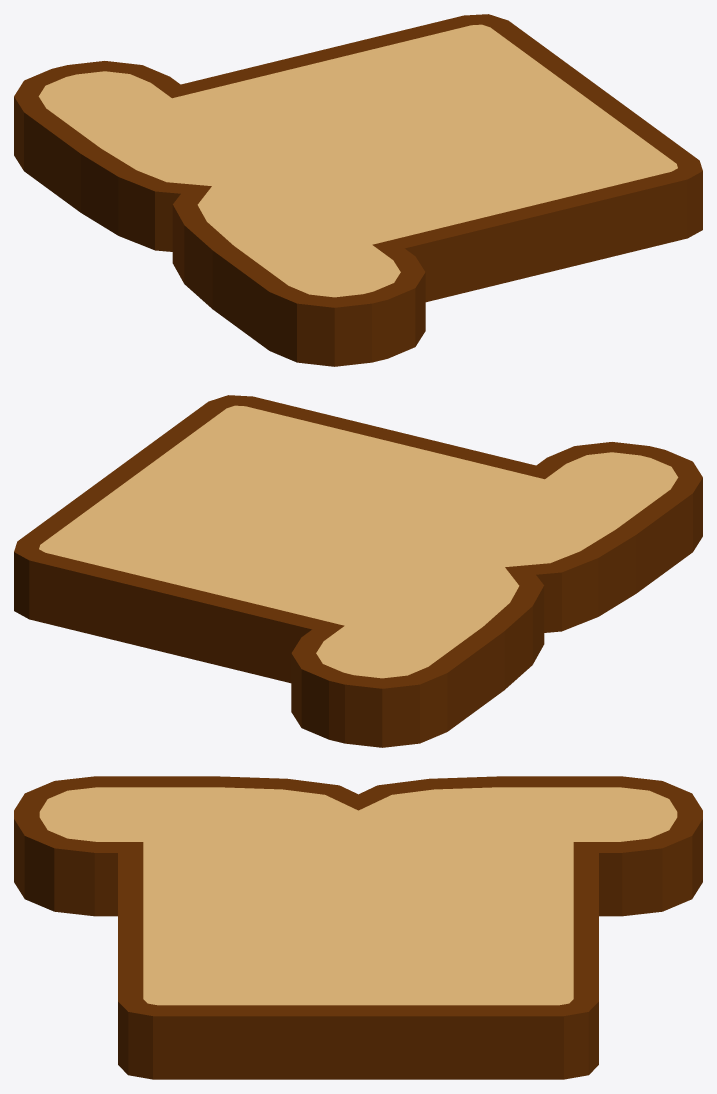
The model's file is bread.fbx.
3 views of the same model, one above another, from view 1: azimuth 30°, elevation 25°; view 2: azimuth 150°, elevation 25°; view 3: azimuth 270°, elevation 25° (orthographic). The views are drawn at different scales.
Visible parts, largest first — view 1: Bread; view 2: Bread; view 3: Bread.
Boxes of the visible parts, <box> form: Bread: <box>14,14,702,366</box>; Bread: <box>14,395,702,747</box>; Bread: <box>14,776,702,1079</box>.
Bounding box in the file's own units: 52.95 × 6.53 × 64.28.
